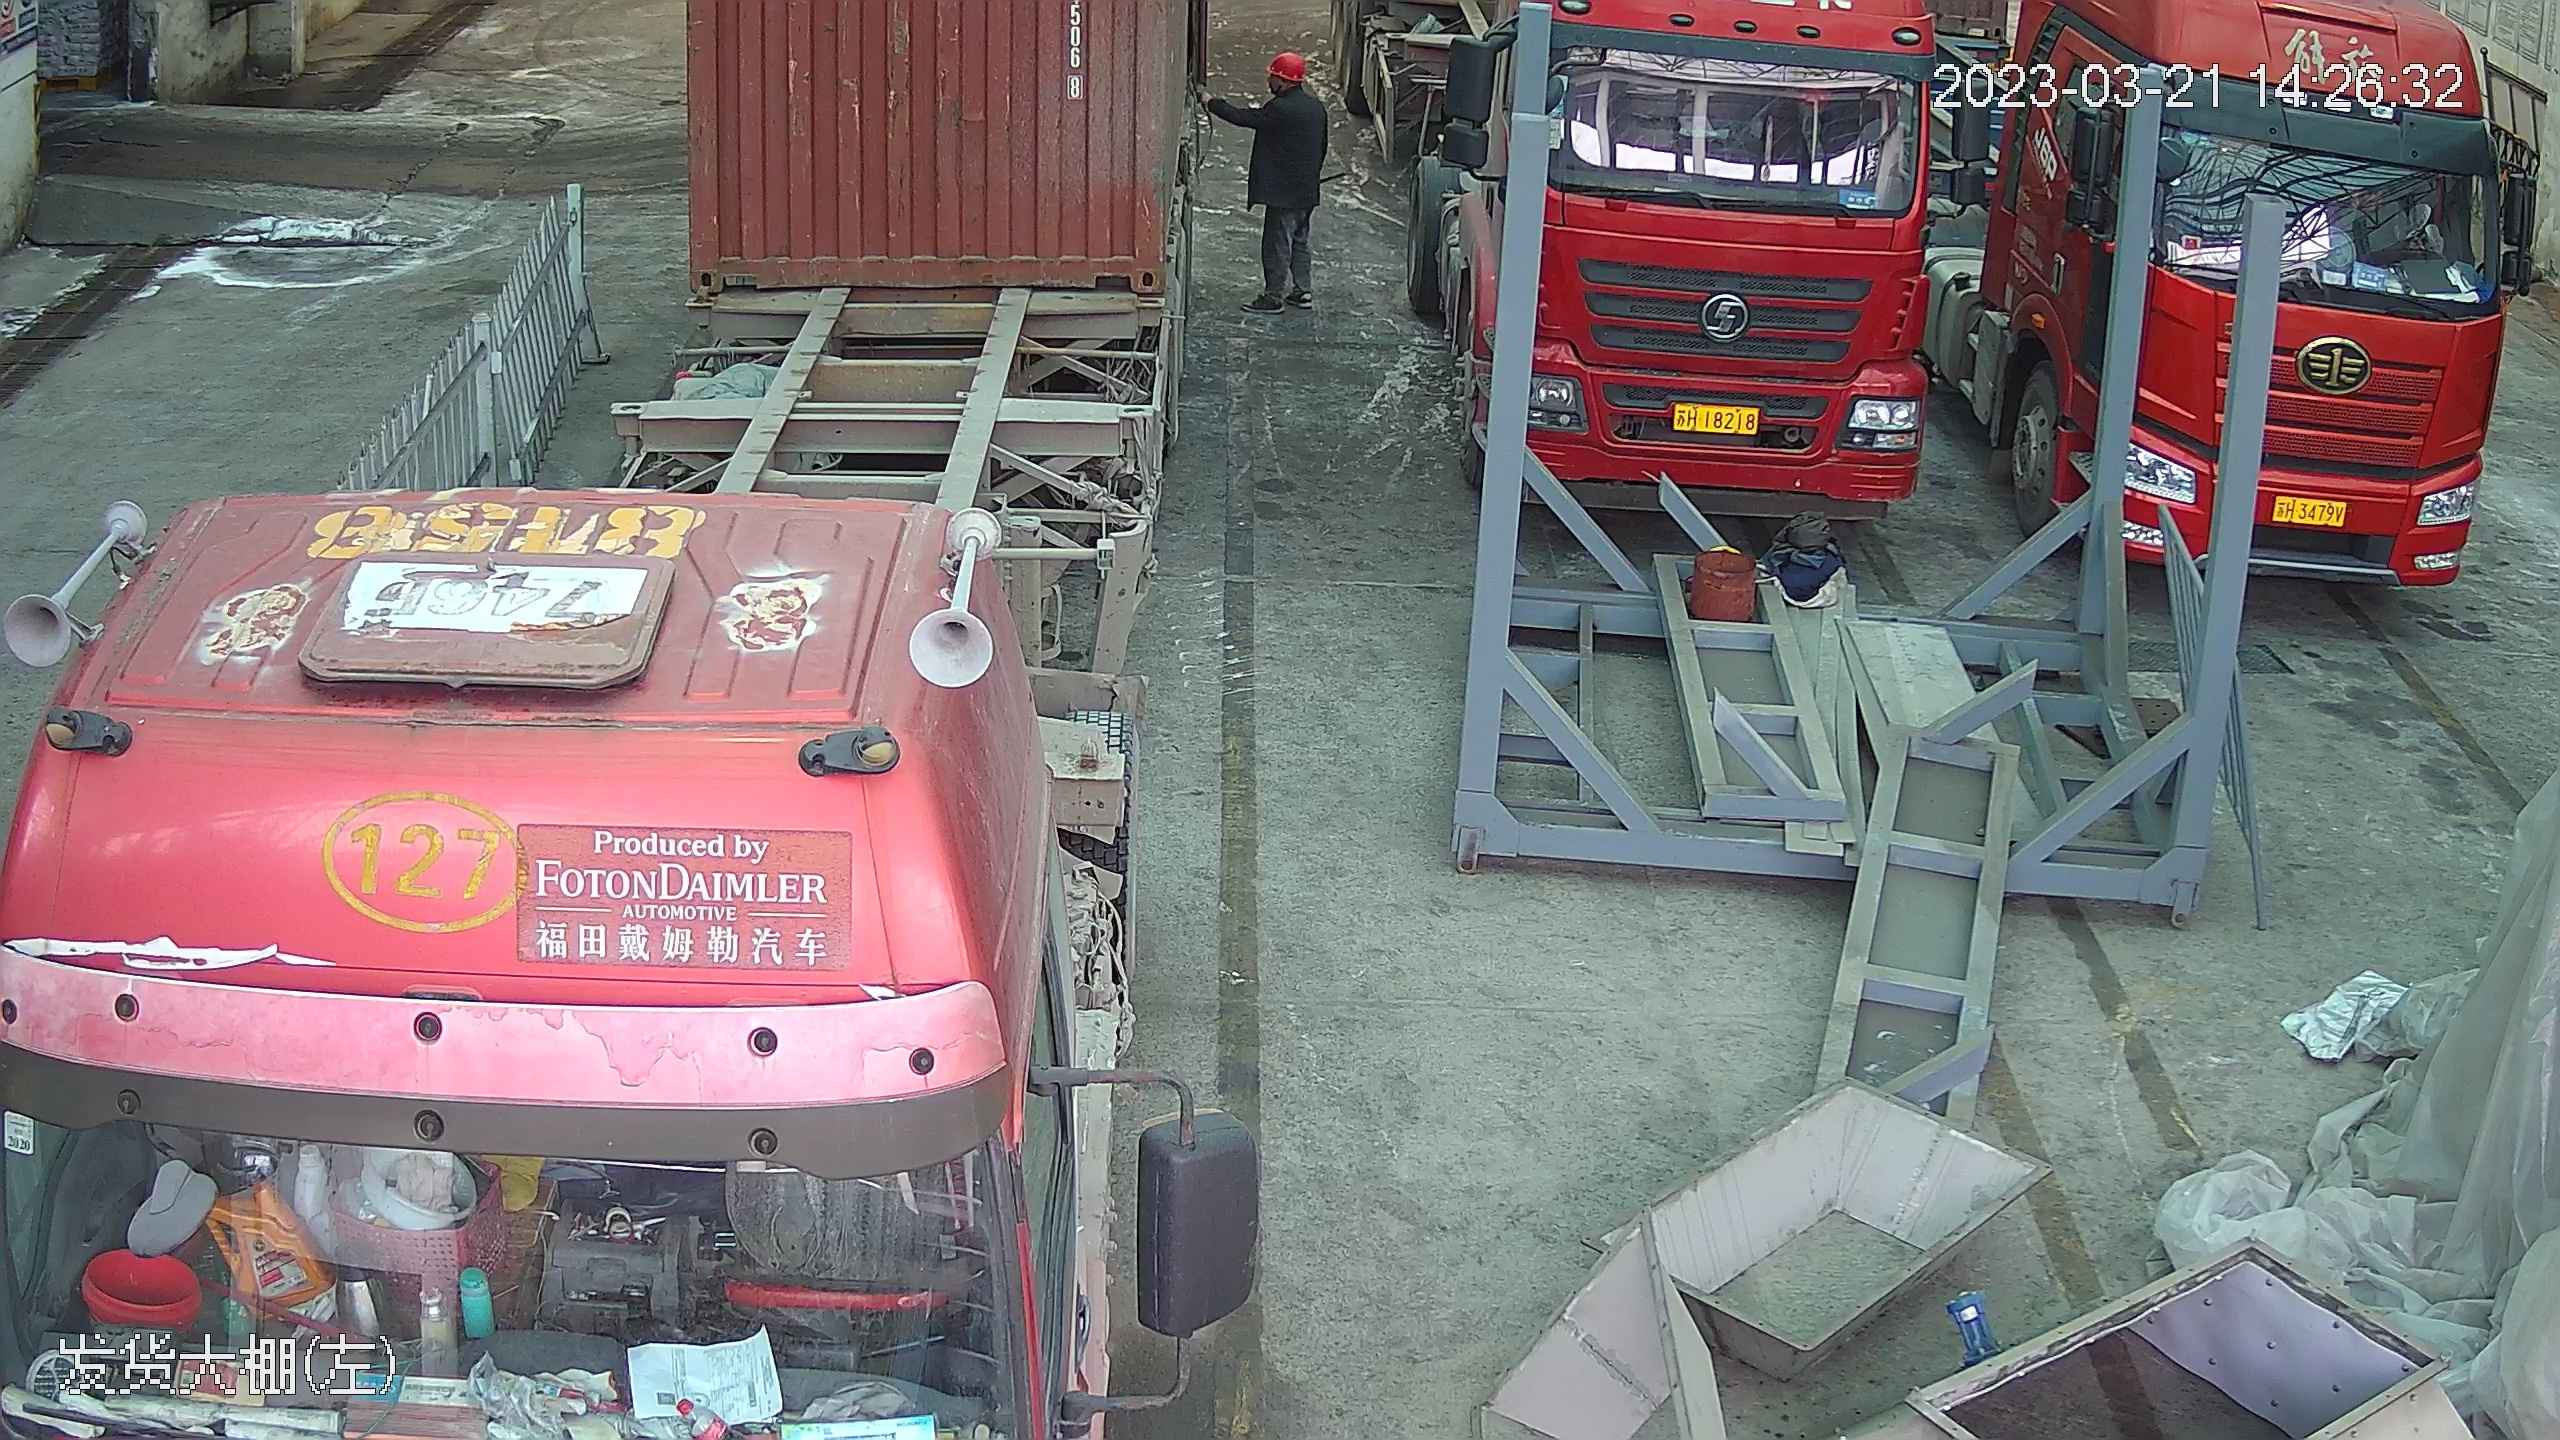head: (1251, 47, 1328, 133)
helmet: (1268, 48, 1310, 78)
people: (1214, 48, 1332, 319)
truck: (0, 0, 1167, 1440), (2000, 4, 2546, 591), (1519, 5, 1943, 521)
